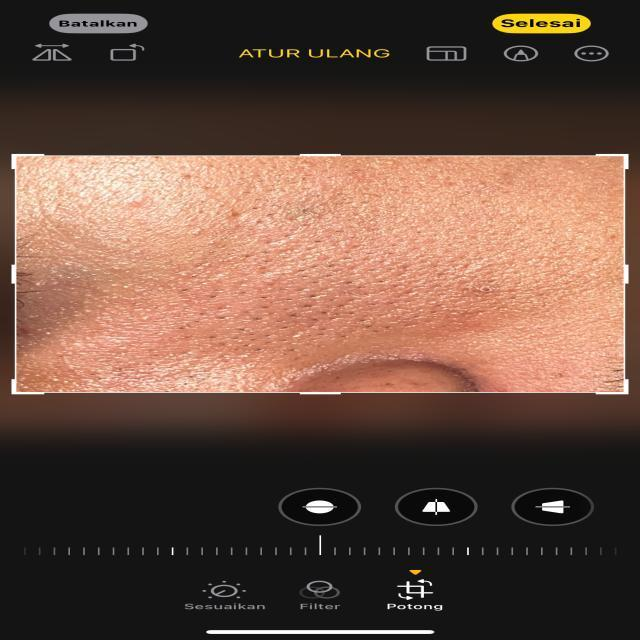blackhead: (162, 207, 536, 366)
